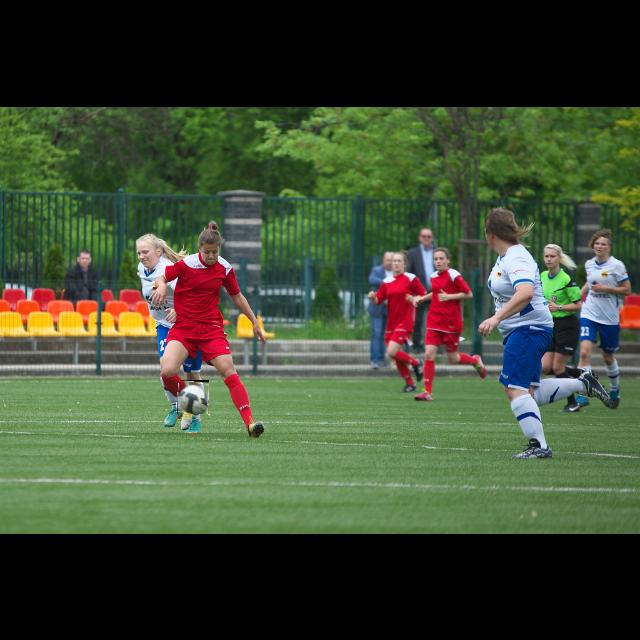Football: (177, 380, 209, 414)
